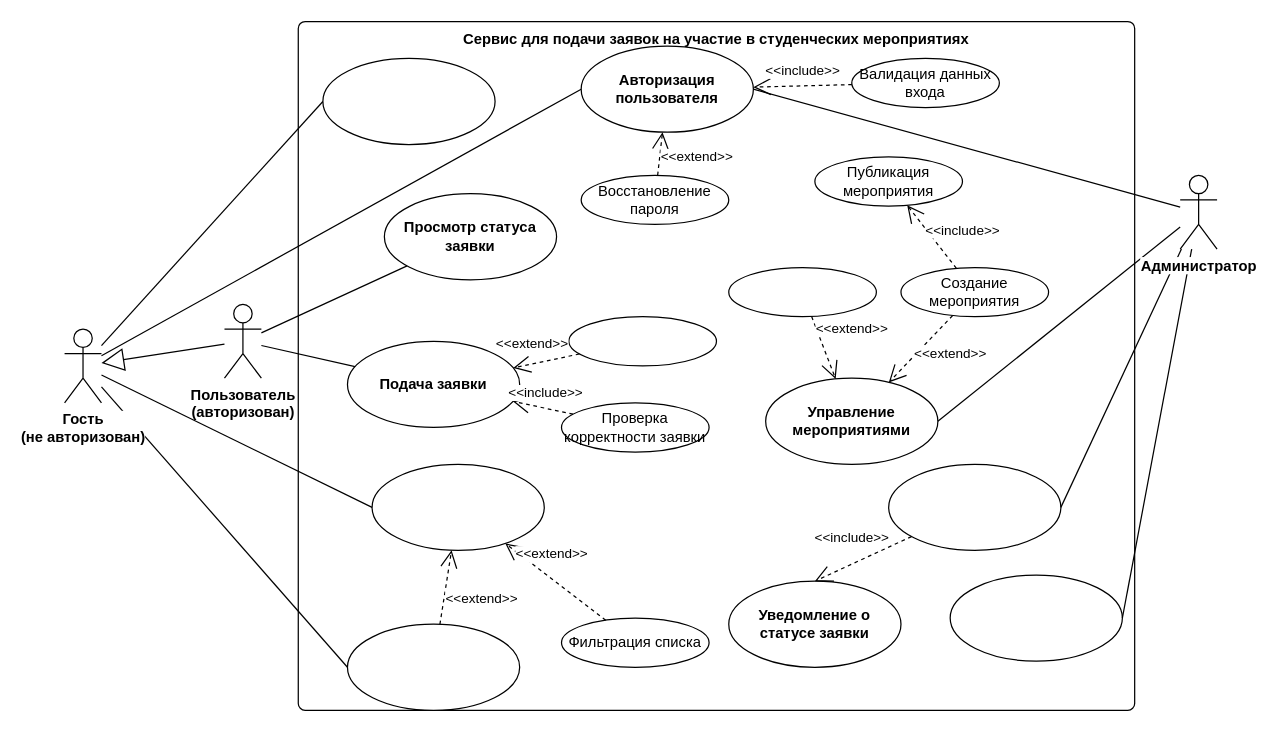
Image size: 1278x732. Some labels were removed from this diagram. The shapes that lost their labels are listed below. From the top down, each one's centre as x and y in pixels, then its label:
At (408,101): "Регистрация в системе".
At (802,291): "Редактирование мероприятия".
At (642,340): "Прикрепление файлов".
At (457,506): "Просмотр списка мероприятий".
At (974,506): "Обработка заявок".
At (1035,617): "Экспорт списка участников".
At (433,666): "Поиск мероприятия".
